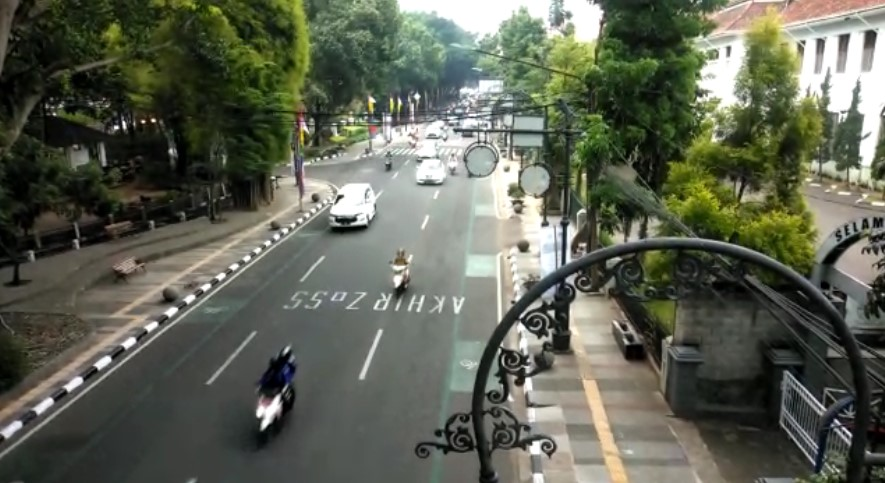mobil: (329, 180, 377, 230)
motor: (245, 347, 298, 441), (391, 248, 413, 292)
